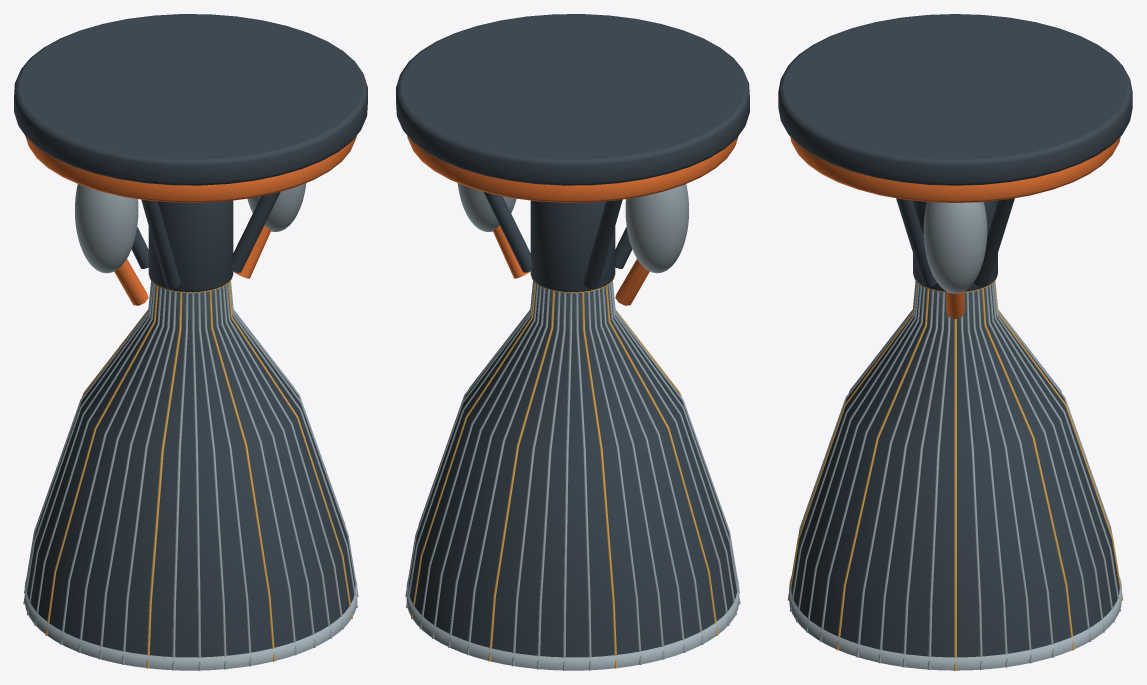
The model's file is engineVacSmall.glb.
3 views of the same model, side by side, from view 1: azimuth 30°, elevation 25°; view 2: azimuth 150°, elevation 25°; view 3: azimuth 270°, elevation 25° (orthographic).
Visible parts, largest first — view 1: GimbalNozzle, EngineMount; view 2: GimbalNozzle, EngineMount; view 3: GimbalNozzle, EngineMount.
Part boxes in pixels (box(x1,y1,x2,y2)): GimbalNozzle: box(23, 276, 358, 670); EngineMount: box(14, 14, 367, 305); GimbalNozzle: box(405, 276, 740, 670); EngineMount: box(396, 14, 749, 305); GimbalNozzle: box(787, 277, 1123, 670); EngineMount: box(778, 14, 1132, 318).
Size of the model in its own units: 0.625 by 1 by 0.625.
